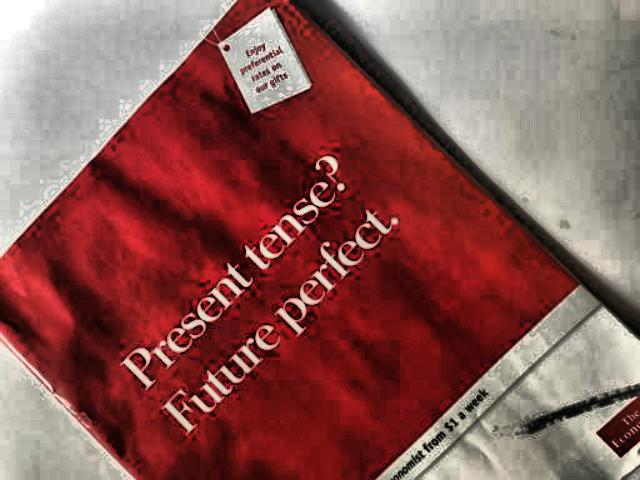Paper: (0, 2, 640, 480)
